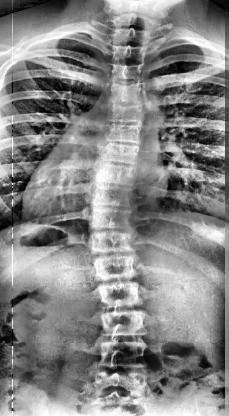Vertebrae: (97, 308, 151, 342), (98, 340, 152, 370), (88, 231, 142, 257), (98, 282, 148, 310), (91, 208, 138, 236), (92, 256, 140, 283), (97, 370, 153, 393), (105, 141, 146, 171), (96, 162, 140, 186), (106, 122, 146, 146), (95, 184, 133, 206), (111, 105, 145, 127), (112, 82, 146, 104), (114, 64, 146, 84), (116, 48, 144, 62)
